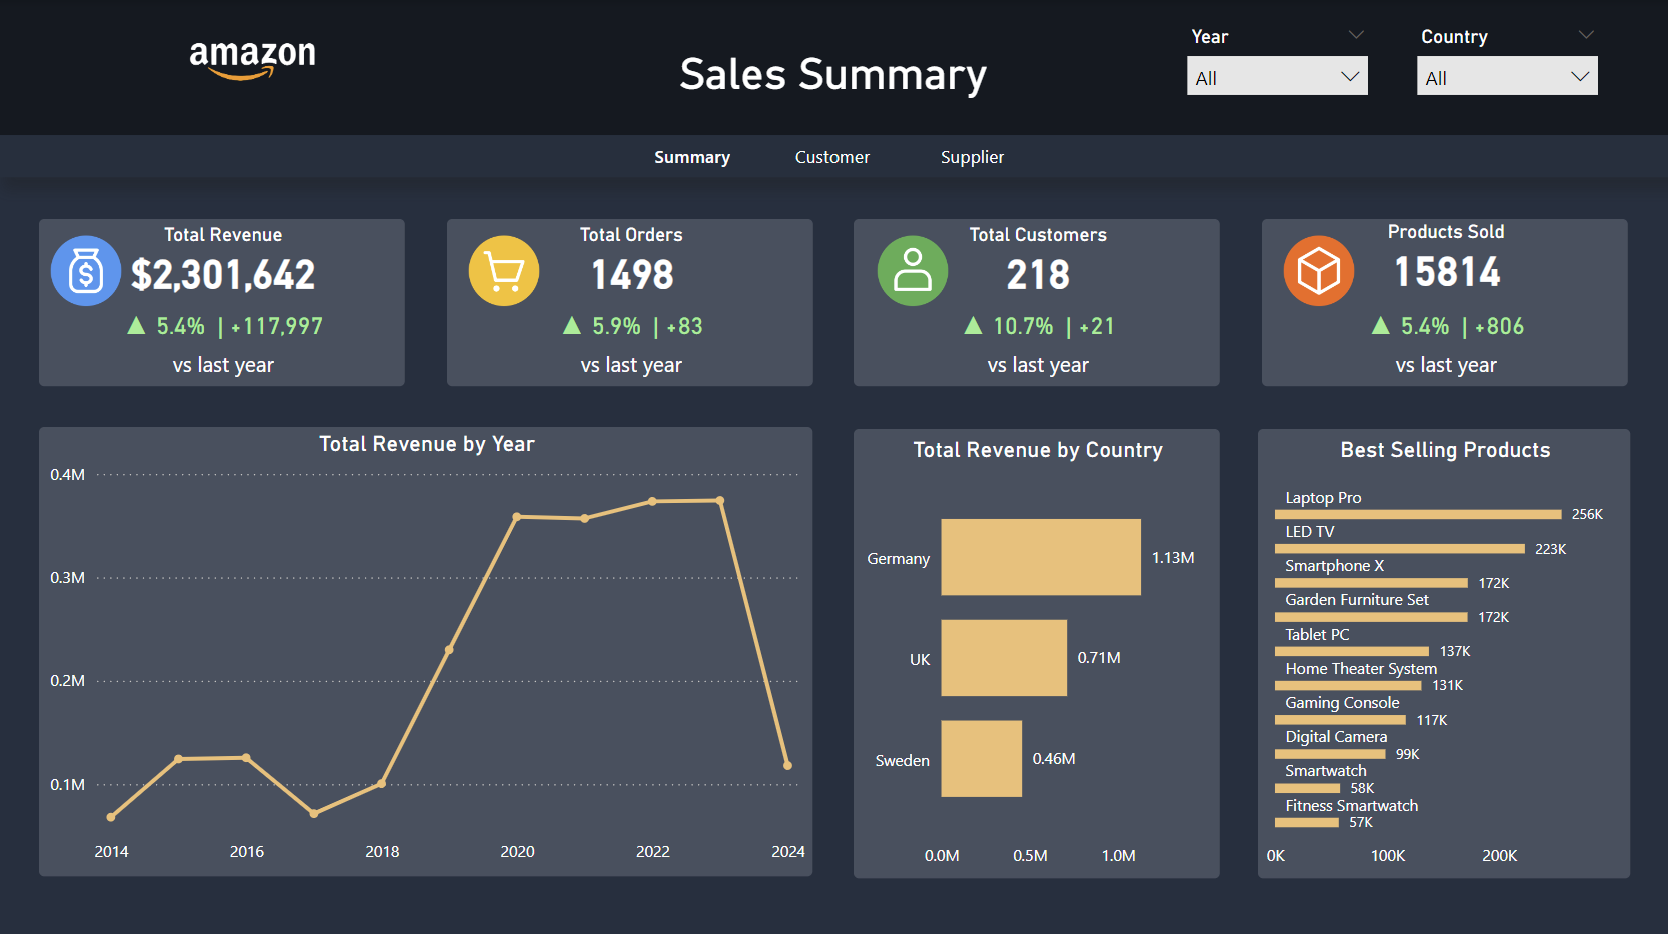

Layout of this report page (visuals, bound fields, positions):
{"tool":"powerbi","page":{"name":" Summary","canvas":[1280,720],"ordinal":0},"visuals":[{"type":"shape","box":[0,0,1280,96],"z":0},{"type":"shape","box":[0,96,1280,40],"z":1000},{"type":"pageNavigator","box":[484,104,312,32],"z":2000},{"type":"card","title":"Total Orders","fields":{"Values":["Measures Table.KPI Orders vs PY"]},"box":[344,168.8,280,128],"z":3000},{"type":"card","title":"Total Revenue","fields":{"Values":["Measures Table.KPI Total Revenue vs PY"]},"box":[32,168.8,280,128],"z":4000},{"type":"card","title":"Total Customers","fields":{"Values":["Measures Table.Total Customers - vs PY"]},"box":[656,168.8,280,128],"z":5000},{"type":"card","title":"Products Sold","fields":{"Values":["Measures Table.Total Products sold PY"]},"box":[968,168.8,280,128],"z":6000},{"type":"lineChart","title":"Total Revenue by Year","fields":{"Y":["Measures Table.Total Revenue"],"Category":["Date table.Date.Variation.Date Hierarchy.Year"]},"box":[32,328,592,344],"z":7000},{"type":"clusteredBarChart","title":"Best Selling Products","fields":{"Y":["Measures Table.labels placeholder","Sum(OrderDetail.Revenue)"],"Category":["Product.ProductName","Customer.Country"]},"box":[965.1,328.5,285.2,343.8],"z":8000},{"type":"textbox","box":[0,32,1280,72],"z":9000},{"type":"clusteredBarChart","fields":{"Y":["Measures Table.Total Revenue"],"Category":["Customer.Country"]},"box":[655.7,328.5,280.1,343.8],"z":10000},{"type":"image","box":[120,0,152,96],"z":11000},{"type":"slicer","fields":{"Values":["Customer.Country"]},"box":[1072,16,168,72],"z":12000},{"type":"slicer","fields":{"Values":["Date table.Date.Variation.Date Hierarchy.Year"]},"box":[896,16,168,72],"z":13000},{"type":"image","box":[352,176,72,64],"z":14000},{"type":"image","box":[32,176,72,64],"z":15000},{"type":"image","box":[664,176,72,64],"z":16000},{"type":"image","box":[976,176,72,64],"z":17000}]}

Visuals, with their boxes in screenshot pixels (x1, y1, x2, y2), scaled from the page's 1280x720 canvas onto the 1668x934 screenshot:
shape: <box>0,0,1667,125</box>
shape: <box>0,125,1667,176</box>
pageNavigator: <box>631,135,1037,176</box>
"Total Orders" card: <box>448,219,813,385</box>
"Total Revenue" card: <box>42,219,407,385</box>
"Total Customers" card: <box>855,219,1220,385</box>
"Products Sold" card: <box>1261,219,1626,385</box>
"Total Revenue by Year" lineChart: <box>42,425,813,872</box>
"Best Selling Products" clusteredBarChart: <box>1258,426,1629,872</box>
textbox: <box>0,42,1667,135</box>
clusteredBarChart - Measures Table.Total Revenue x Customer.Country: <box>854,426,1219,872</box>
image: <box>156,0,354,125</box>
slicer - Customer.Country: <box>1397,21,1616,114</box>
slicer - Date table.Date.Variation.Date Hierarchy.Year: <box>1168,21,1387,114</box>
image: <box>459,228,553,311</box>
image: <box>42,228,136,311</box>
image: <box>865,228,959,311</box>
image: <box>1272,228,1366,311</box>
